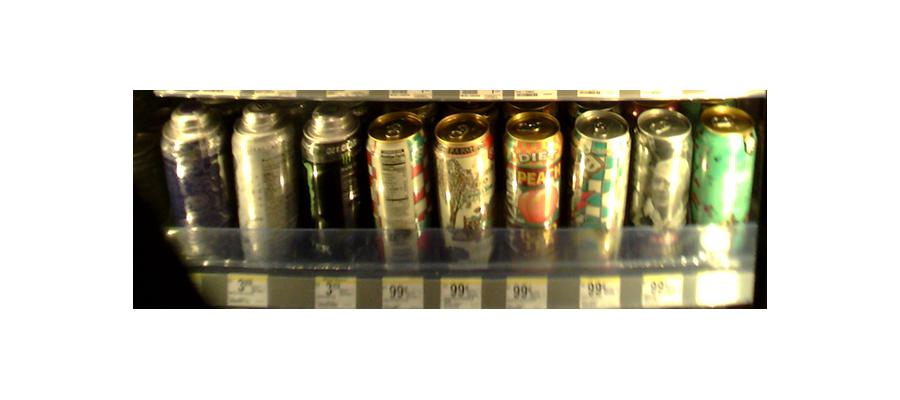bottle: (162, 105, 234, 271), (235, 106, 300, 264), (298, 105, 363, 261), (694, 105, 753, 273), (368, 115, 430, 269), (569, 111, 629, 266), (502, 112, 563, 263), (634, 109, 693, 265), (435, 119, 494, 266)
